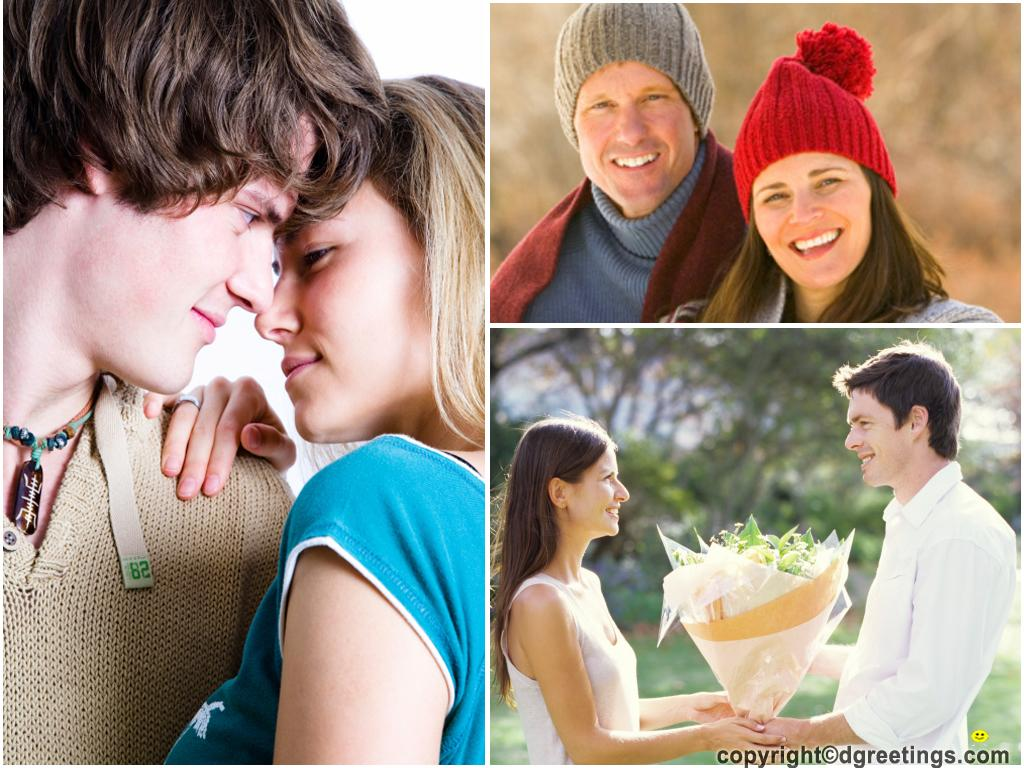face: (102, 70, 320, 394), (254, 120, 422, 436), (754, 118, 868, 284), (578, 48, 694, 210), (842, 394, 908, 482), (574, 442, 630, 538)
